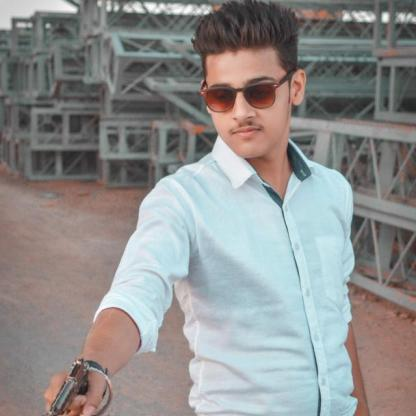handgun: (32, 353, 113, 416)
